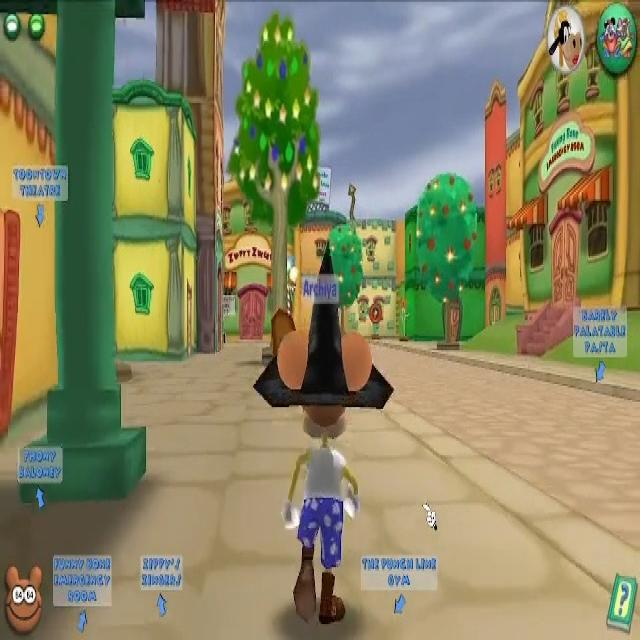telemarketer: (218, 293, 236, 347)
